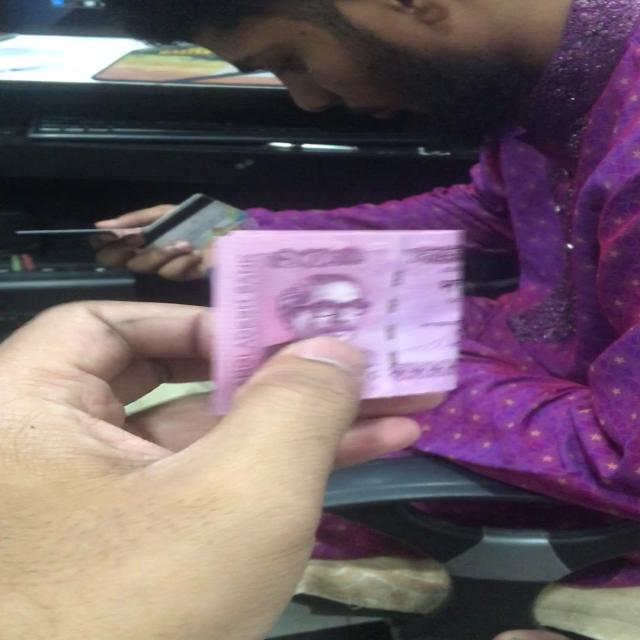Taka: (209, 219, 475, 404)
